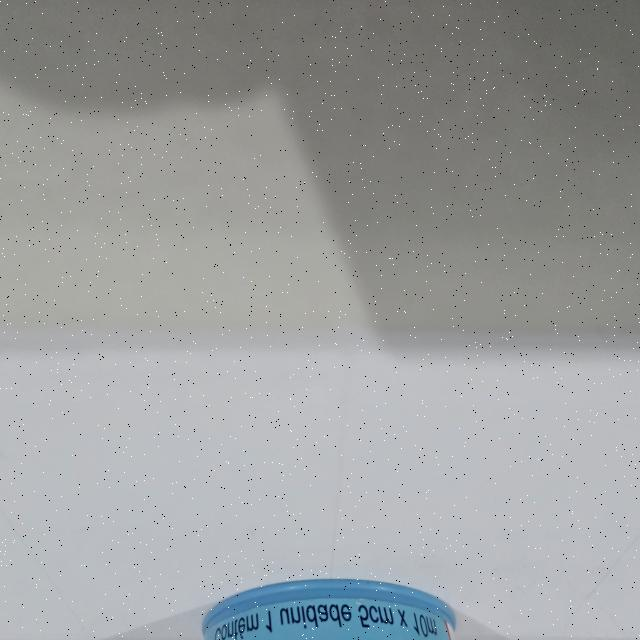procitex: (198, 574, 462, 640)
